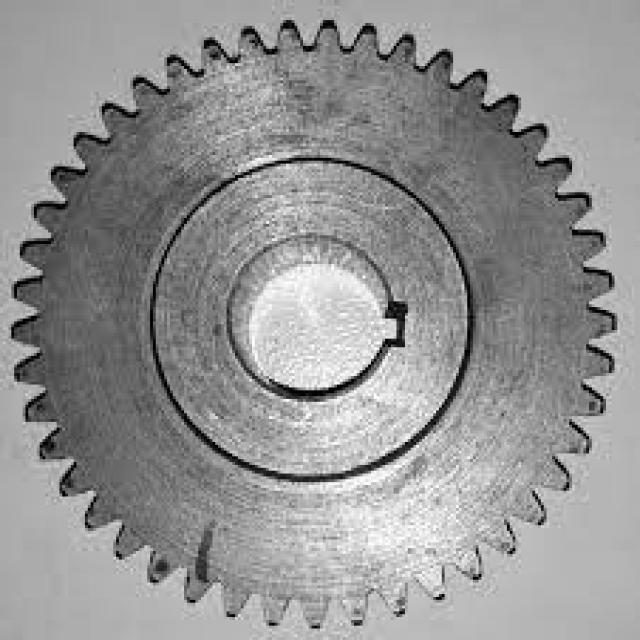Fault-Exist: (9, 10, 628, 636)
